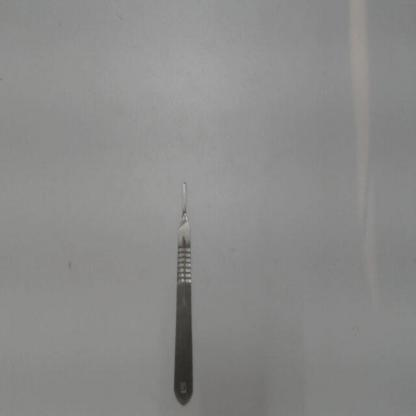No.3 BP Handle: (170, 181, 199, 411)
